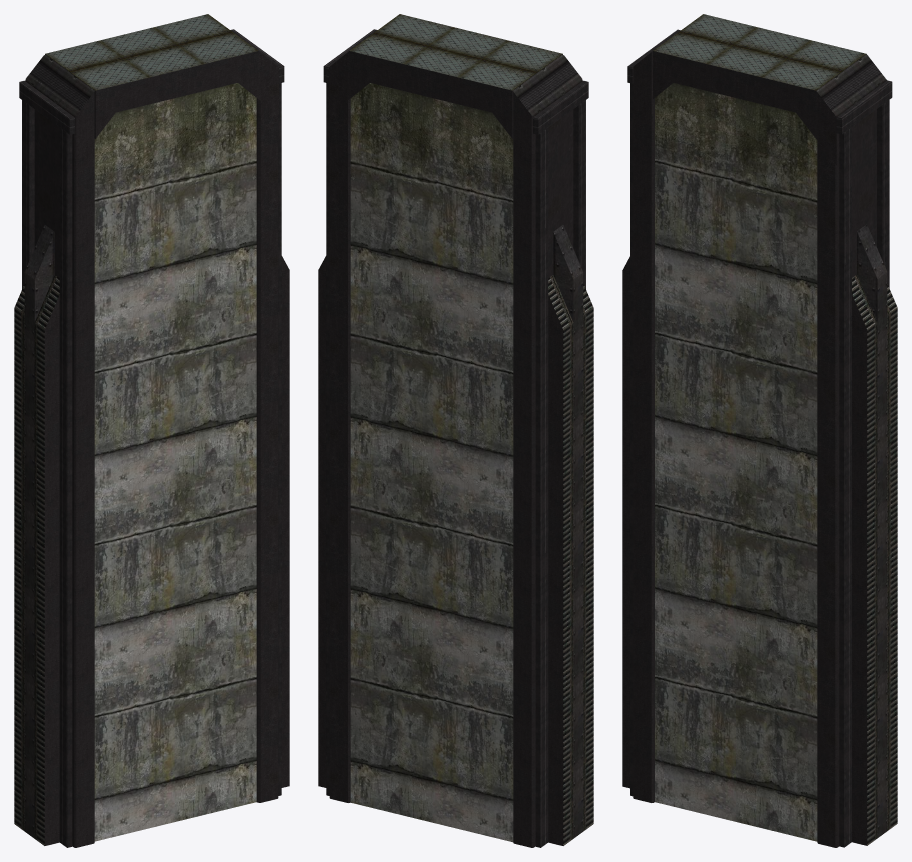
Rendered from bridgewall3.fbx.
3 renders of one model, left to right at view 1: azimuth 30°, elevation 25°; view 2: azimuth 150°, elevation 25°; view 3: azimuth 330°, elevation 25°, orthographic.
Visible parts, largest first — view 1: Object; view 2: Object; view 3: Object.
Boxes of the visible parts, x1,y1,x2,y2 form: Object: (14, 14, 289, 847); Object: (318, 14, 593, 847); Object: (622, 14, 897, 847).
Bounding box in the file's own units: 2384 × 7003 × 850.
